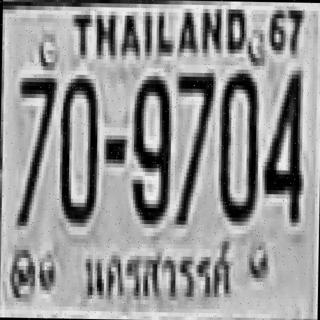N00: (58, 72, 97, 221), (218, 69, 257, 218)
N04: (261, 68, 303, 220)
N07: (174, 68, 214, 221), (15, 74, 54, 222)
N09: (130, 72, 170, 220)
P31: (83, 237, 236, 310)
